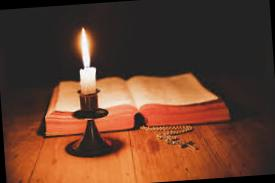Fire: (72, 22, 96, 68)
